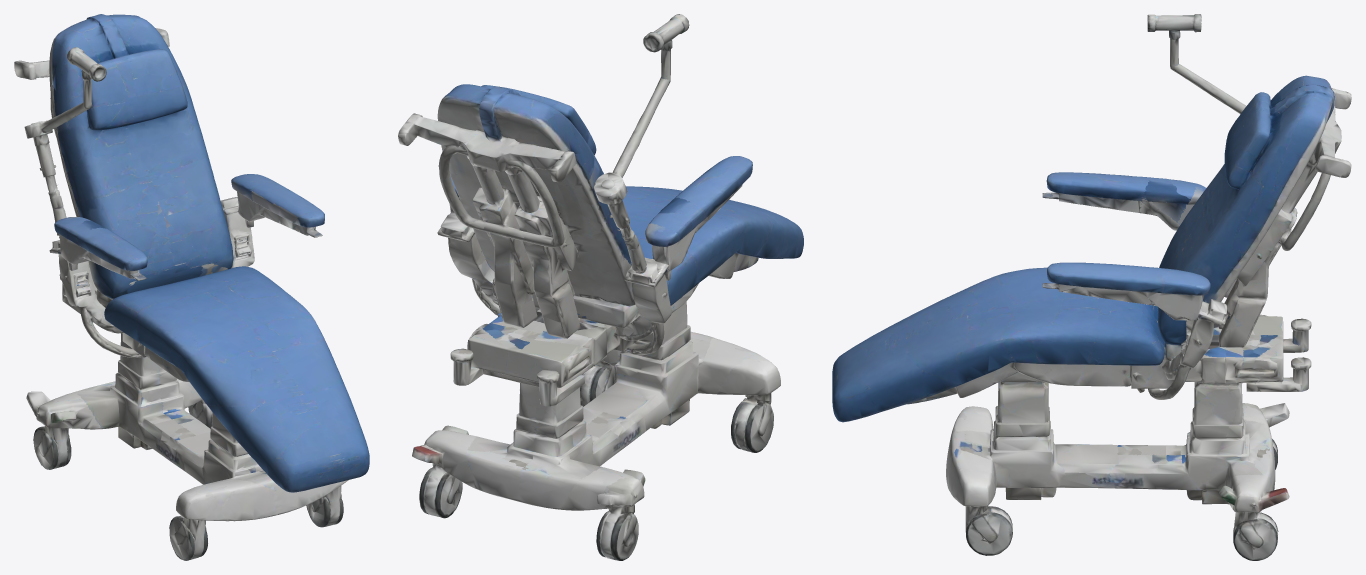
File: nitrocare.glb
3 renders of one model, left to right at view 1: azimuth 30°, elevation 25°; view 2: azimuth 150°, elevation 25°; view 3: azimuth 270°, elevation 25°, orthographic. The views are drawn at different scales.
Parts seen in each view (by area): view 1: tmpzlly6c7xobj; view 2: tmpzlly6c7xobj; view 3: tmpzlly6c7xobj.
Boxes of the visible parts, x1,y1,x2,y2 form: tmpzlly6c7xobj: (14, 14, 369, 560); tmpzlly6c7xobj: (398, 14, 803, 560); tmpzlly6c7xobj: (832, 14, 1351, 560).
Size of the model in its own units: 0.4806 by 0.9803 by 0.9999.
1 material, 1 textured.
